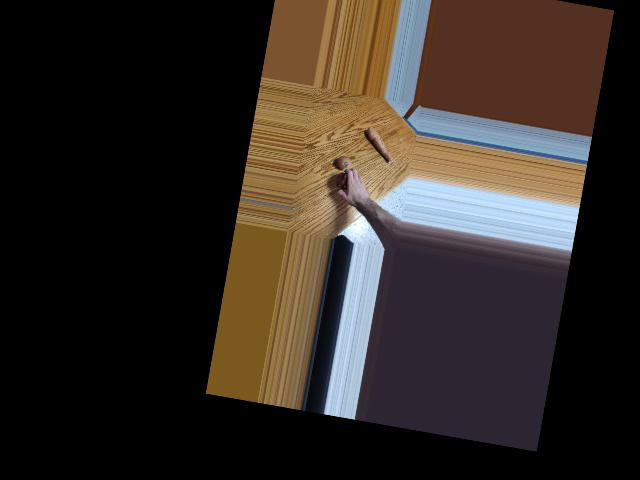onion: (335, 171, 354, 191)
